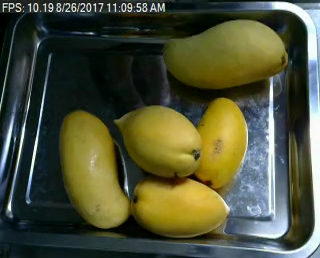Mango: (51, 107, 133, 229), (162, 18, 286, 93), (112, 106, 202, 180), (130, 175, 228, 241), (190, 97, 251, 190)
